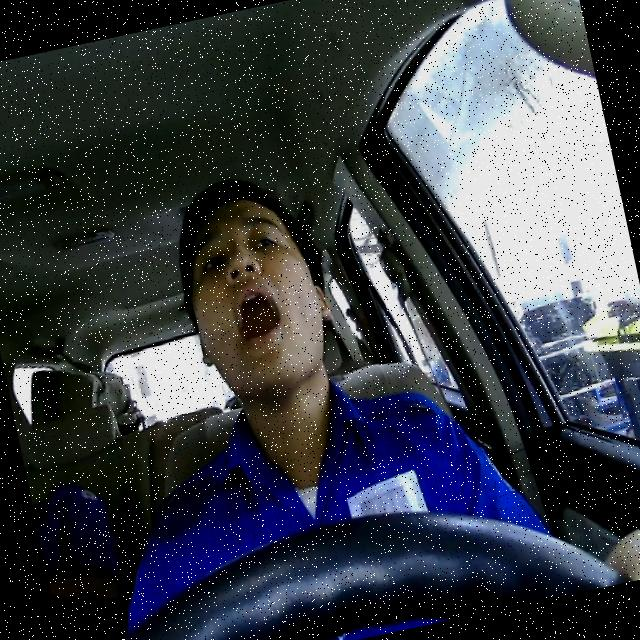yarning: (166, 183, 344, 410)
